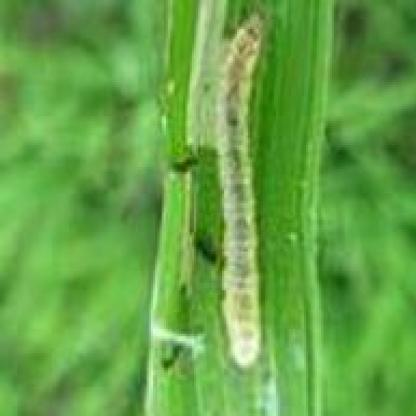leaf-folder: (206, 9, 277, 382)
